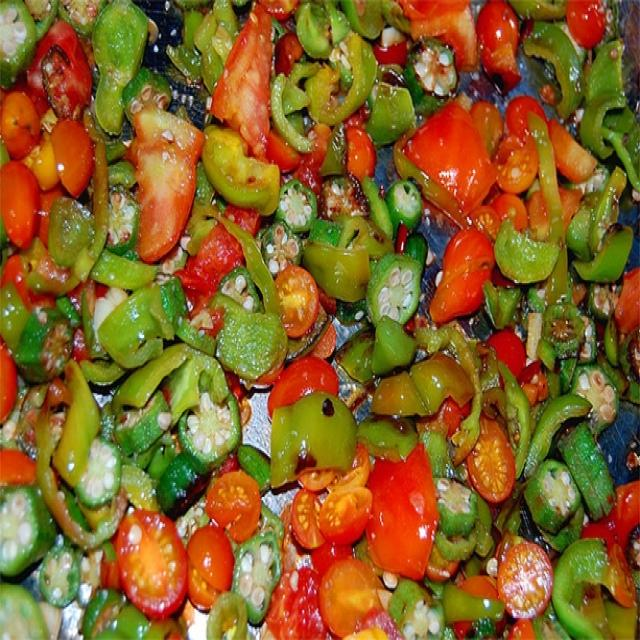蔬菜料理: (5, 12, 614, 626)
